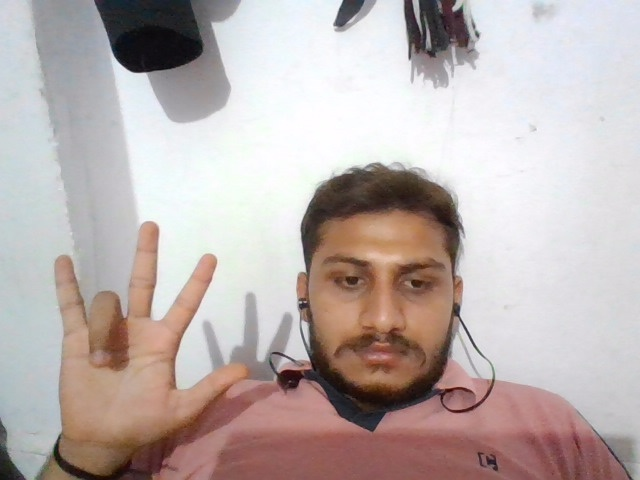ILoveYou: (42, 216, 250, 448)
